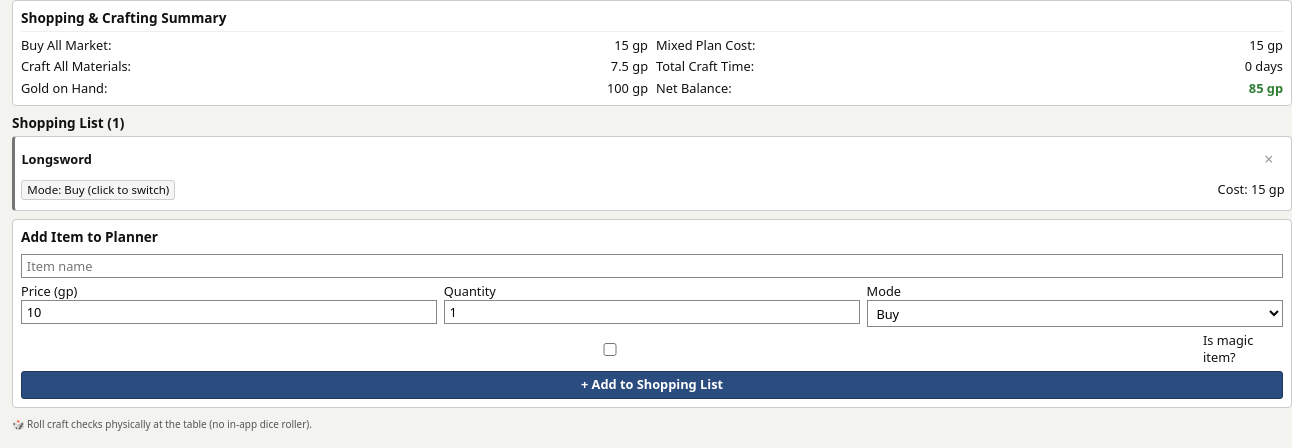
Test: BudgetCalculator › removes a line
Click the button named "Remove item": click(1269, 160) [1253,144,1285,176]
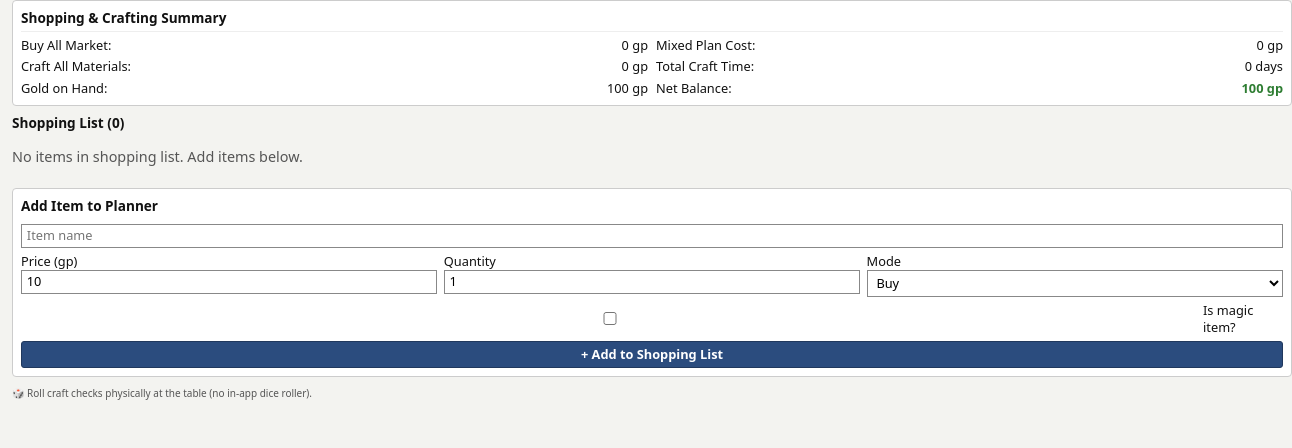
Check: the text "Longsword" is gone
Check: the text "No items in shopping list. Add items below." is shown, box [12,147,303,166]
